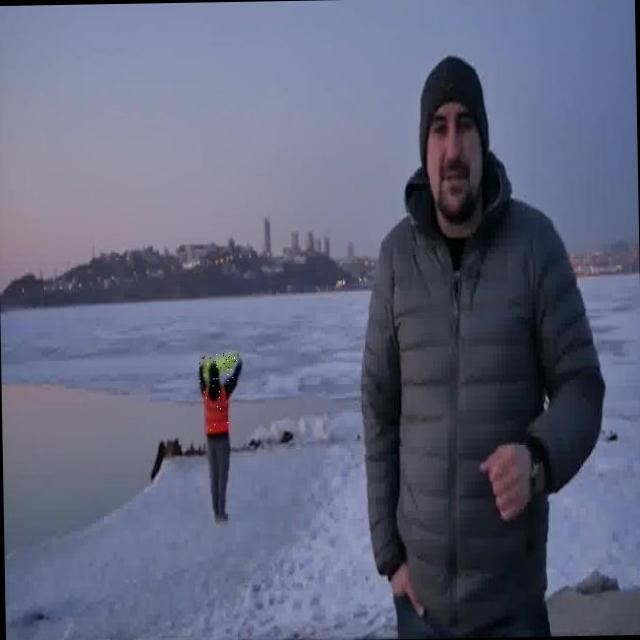Person: (347, 25, 621, 640), (180, 325, 269, 538)
Safety Vest: (203, 382, 228, 437), (199, 353, 240, 384)
bare-arms: (468, 440, 547, 533), (384, 556, 436, 617)
no-helmet: (425, 55, 477, 109), (208, 361, 220, 379)
no-vest: (361, 146, 607, 631)
